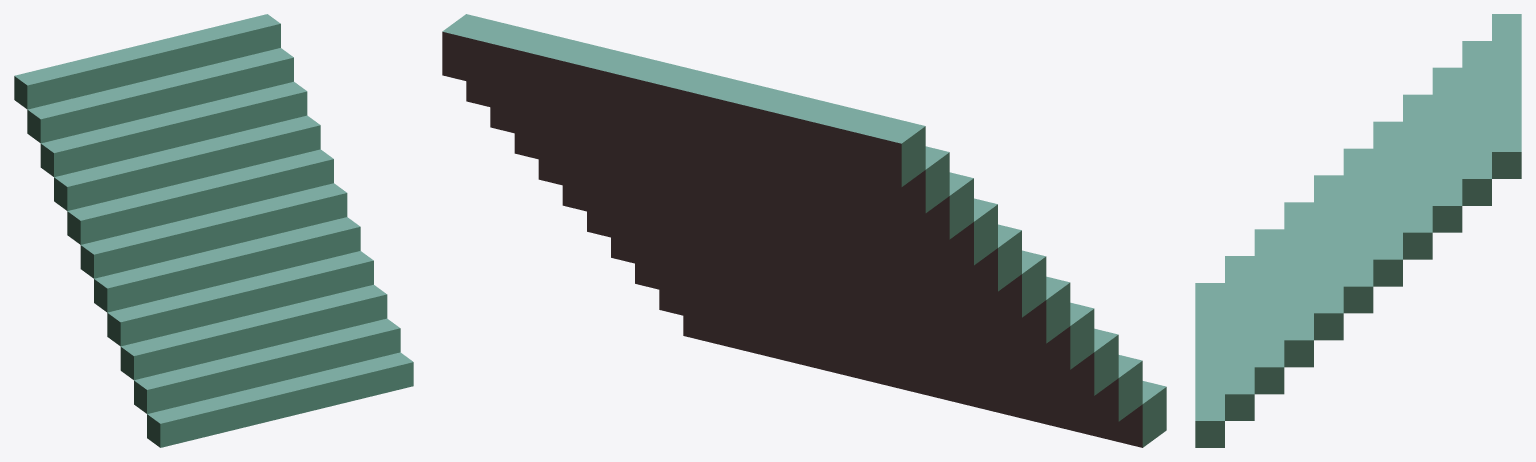
Rendered from SM_Escalier1x1_2.FBX.
The picture shows the model from 3 angles, left to right: view 1: azimuth 30°, elevation 25°; view 2: azimuth 150°, elevation 25°; view 3: azimuth 270°, elevation 25°; orthographic projection. The views are drawn at different scales.
Visible parts, largest first — view 1: SM_Escalier1x1_2; view 2: SM_Escalier1x1_2; view 3: SM_Escalier1x1_2.
Part boxes in pixels (bbox=[...]): SM_Escalier1x1_2: bbox=[14, 14, 413, 447]; SM_Escalier1x1_2: bbox=[442, 14, 1166, 447]; SM_Escalier1x1_2: bbox=[1195, 14, 1521, 447].
Bounding box in the file's own units: 100 × 99.99 × 99.99.
